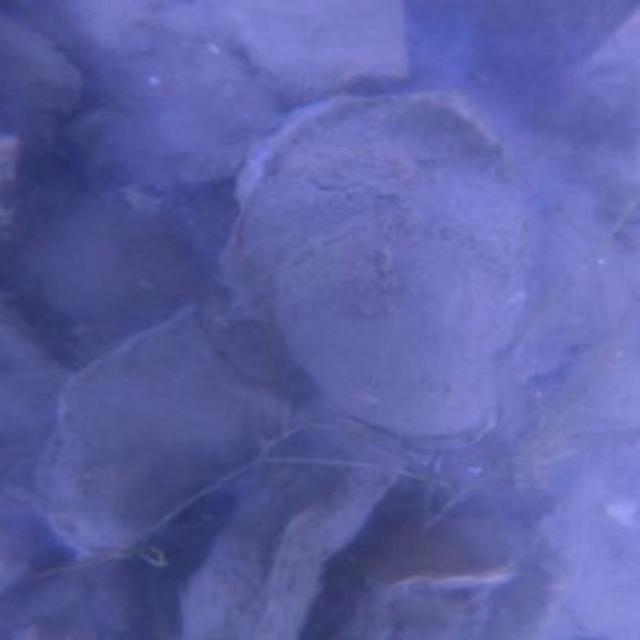Oyster-Closed: (213, 83, 533, 352), (41, 320, 262, 557), (265, 234, 497, 458), (60, 14, 270, 187), (220, 4, 420, 100), (360, 513, 531, 590), (0, 18, 77, 139)
Oyster-Open: (183, 418, 419, 638)
